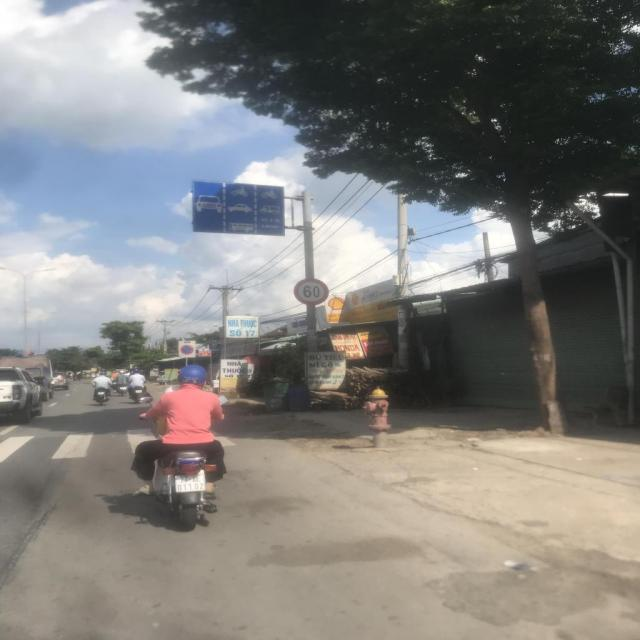cam_do_xe: (180, 344, 195, 354)
lan_duong_cho_tung_xe_theo_vach_ke_duong: (192, 180, 284, 235)
toc_do_toi_da_60: (292, 277, 330, 306)
